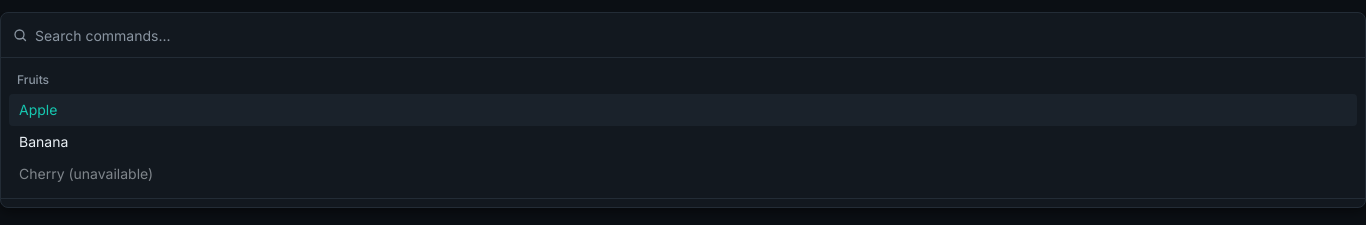
Test: Command › shows CommandEmpty when no item matches
This screenshot has width=1366, height=225.
Step 1. Type "xyz" into the dropdown with placeholder "Search commands..." → (694, 35), box [35,13,1353,57]
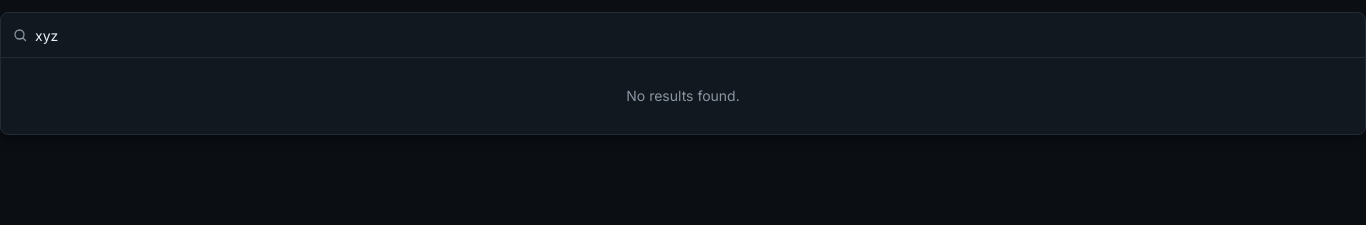
Result: the text "No results found." is shown at [626,87,740,104]
